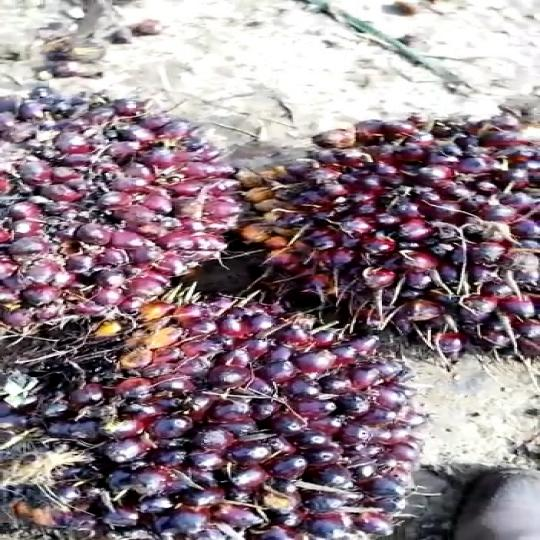kurang masak: (0, 295, 436, 539), (243, 93, 540, 356), (0, 80, 234, 340)
